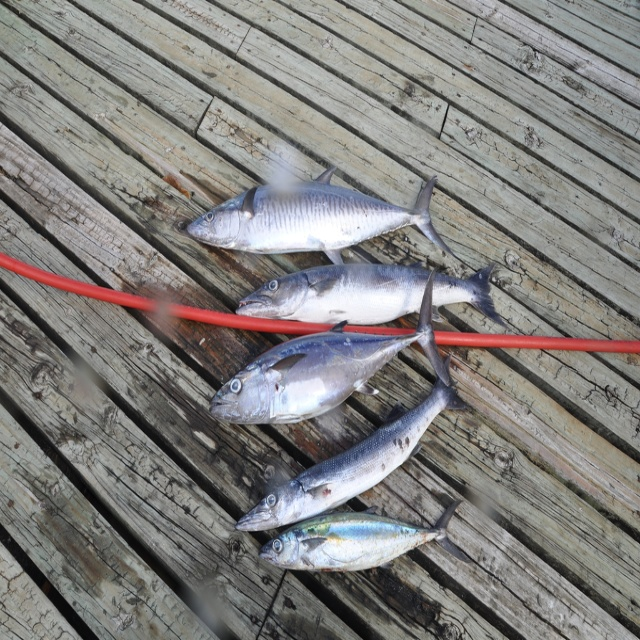Fish: (187, 166, 510, 571)
